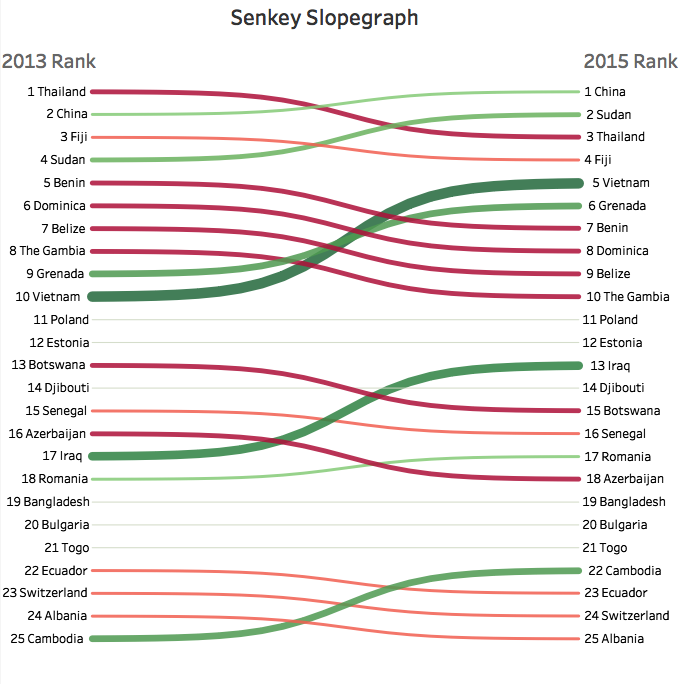

Layout of this report page (visuals, bound fields, positions):
{"tool":"tableau","page":{"name":"Dashboard 1","canvas":[700,700],"ordinal":0},"visuals":[{"type":"worksheet","title":"Sheet 1","mark":"Line","rows":["Excel Calculated Curve"],"cols":["t"],"box":[0,0,700,700]},{"type":"text","box":[235.7,10,245,30]},{"type":"text","box":[7,56,114,24]}]}

Visuals, with their boxes in screenshot pixels (x1, y1, x2, y2), scaled from the page's 700x700 canvas onto the 684x684 screenshot:
"Sheet 1" worksheet (Line marks): bbox(0, 0, 683, 683)
text: bbox(230, 10, 470, 39)
text: bbox(7, 55, 118, 78)
